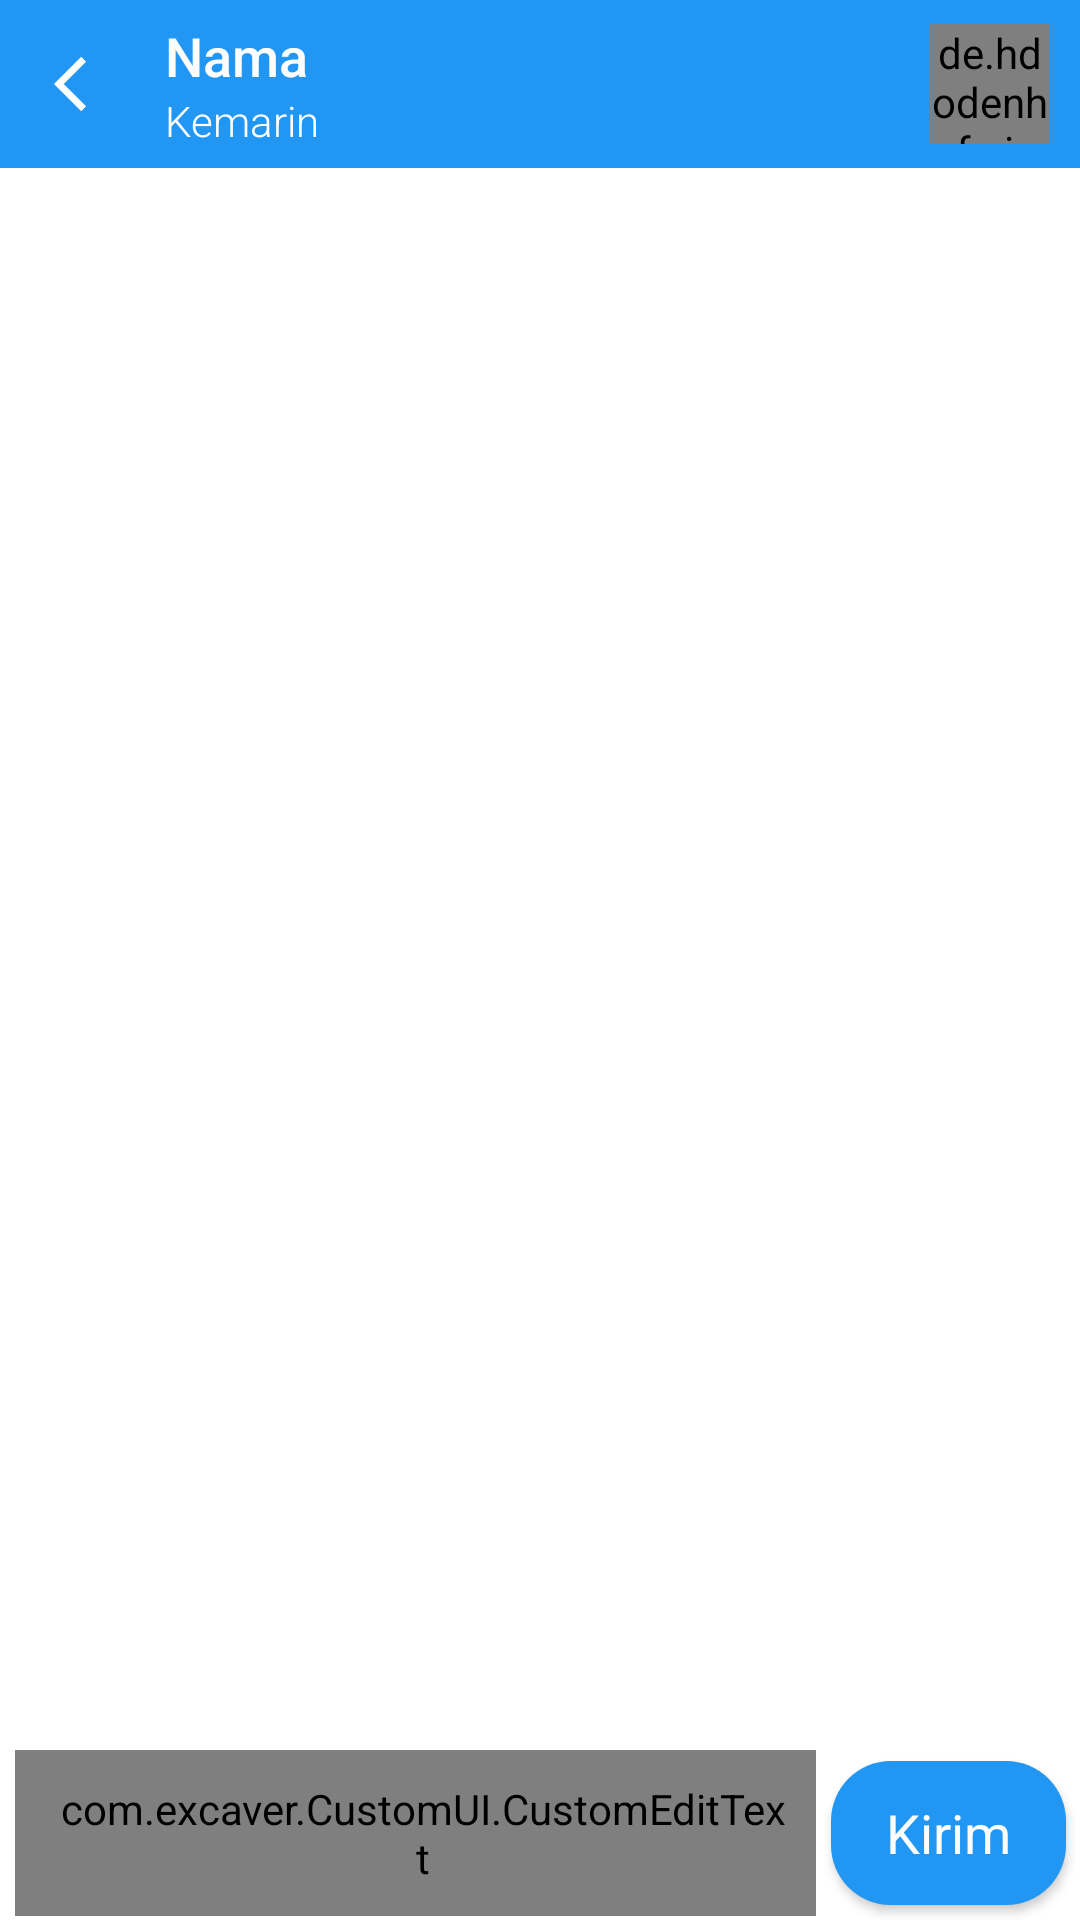

Icon bounding boxes for this 1080px×1920px phone screenshot, format (left=x1, top=y1, right=x2, bottom=y2):
back: (left=54, top=57, right=86, bottom=111)
